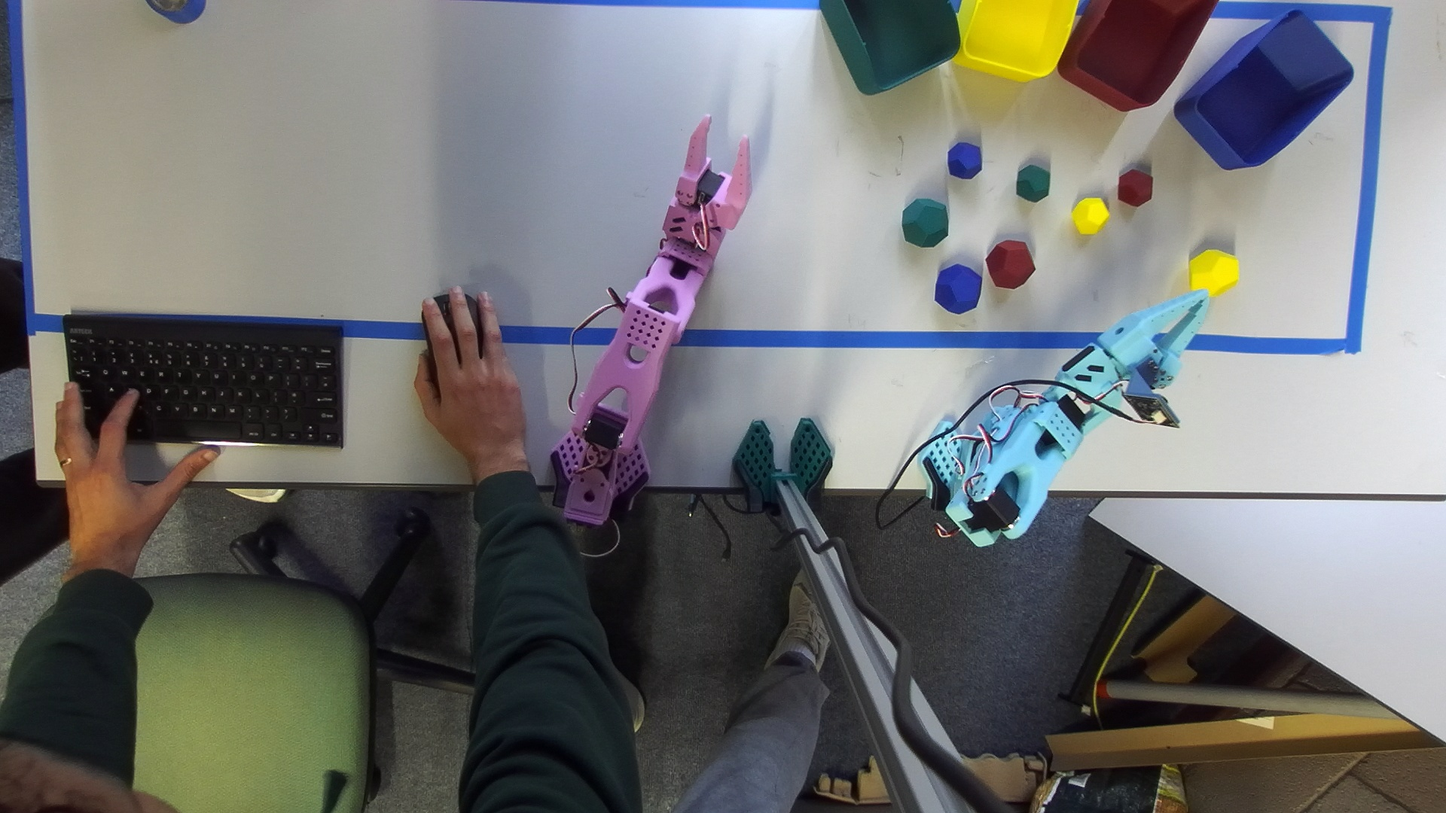bin: (1175, 9, 1353, 169), (1057, 0, 1216, 111), (819, 0, 960, 94), (953, 0, 1077, 81)
dodecahedron: (985, 239, 1035, 288), (1189, 249, 1238, 297), (934, 263, 981, 313), (901, 198, 948, 247), (1118, 164, 1152, 206), (1072, 197, 1109, 234), (1016, 163, 1050, 201), (947, 142, 981, 178)
gripper: (663, 115, 751, 258), (1095, 290, 1209, 388)
